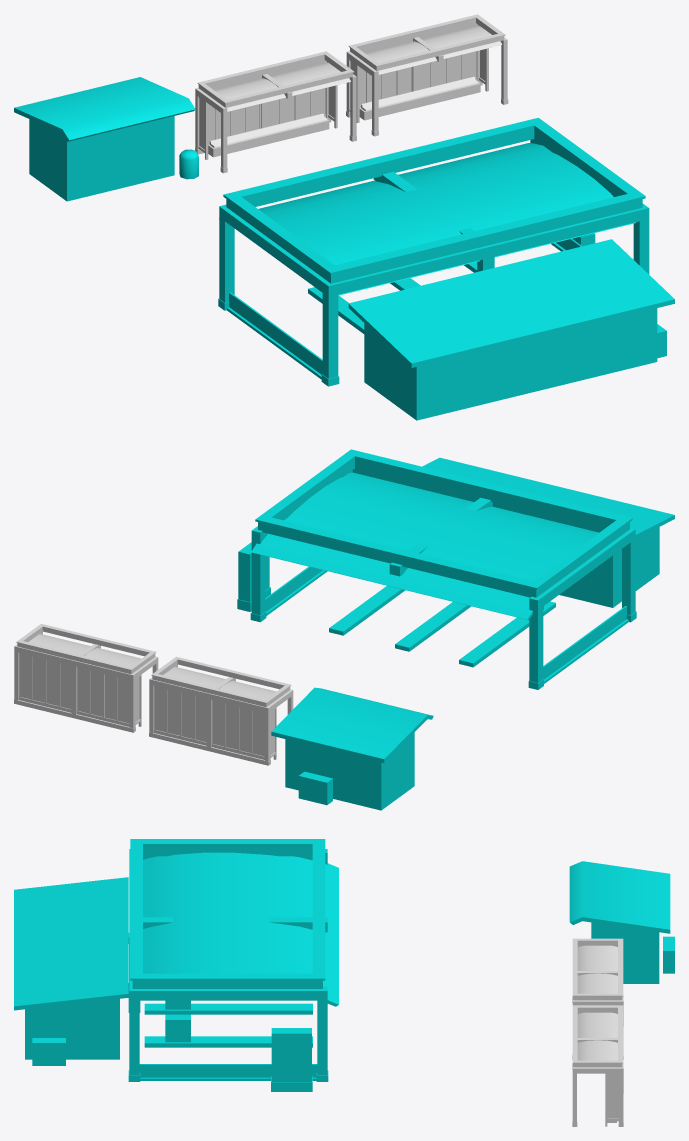
Rendered from BusStation_Full.fbx.
3 views of the same model, one above another, from view 1: azimuth 30°, elevation 25°; view 2: azimuth 150°, elevation 25°; view 3: azimuth 270°, elevation 25° (orthographic). The views are drawn at different scales.
Parts seen in each view (by area): view 1: BusStation, BusStop1, BusStop2; view 2: BusStation, BusStop1, BusStop2; view 3: BusStation, BusStop2, BusStop1.
Boxes of the visible parts, bbox=[...] form: BusStation: bbox=[14, 77, 674, 420]; BusStop1: bbox=[195, 51, 356, 173]; BusStop2: bbox=[346, 14, 508, 136]; BusStation: bbox=[237, 449, 674, 810]; BusStop1: bbox=[149, 656, 293, 765]; BusStop2: bbox=[14, 623, 158, 732]; BusStation: bbox=[14, 839, 674, 1091]; BusStop2: bbox=[572, 1005, 623, 1126]; BusStop1: bbox=[572, 938, 623, 1059].
Size of the model in its own units: 10.9 by 2.67 by 15.61.
